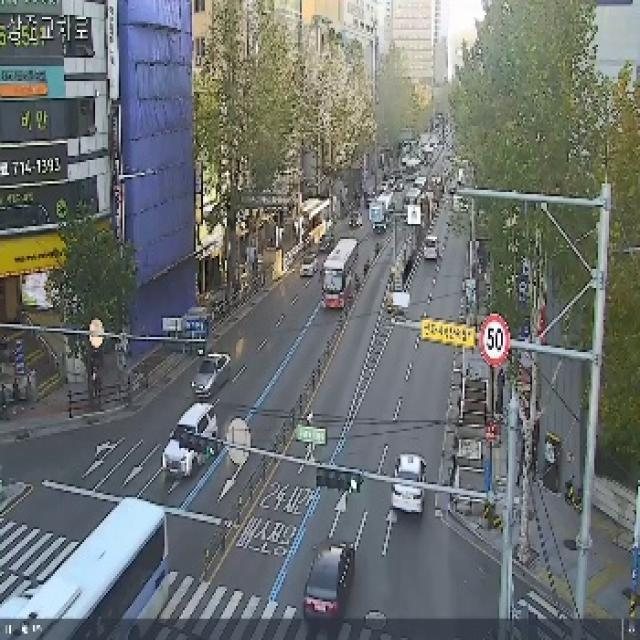bus: (0, 498, 168, 640), (324, 239, 358, 309)
car: (162, 402, 219, 477), (305, 544, 355, 617), (192, 354, 231, 397), (392, 484, 422, 512), (395, 454, 424, 481), (300, 254, 318, 277), (424, 235, 438, 259)
traffic-lights: (316, 468, 364, 492)
